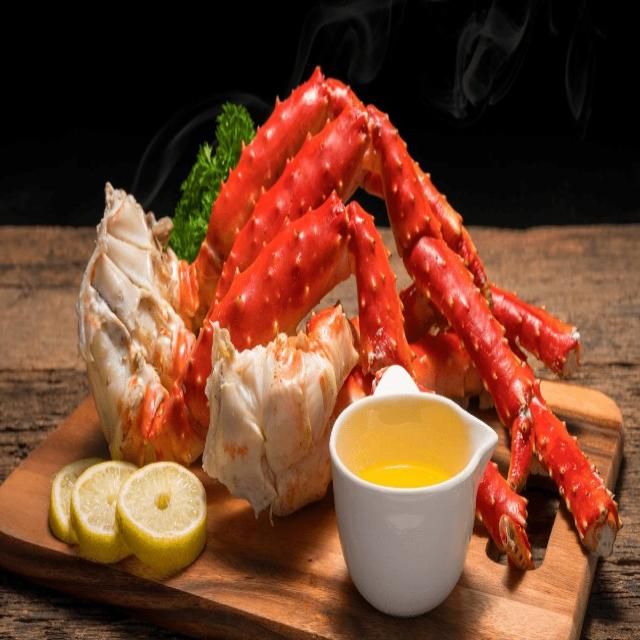crab: (77, 162, 453, 524)
